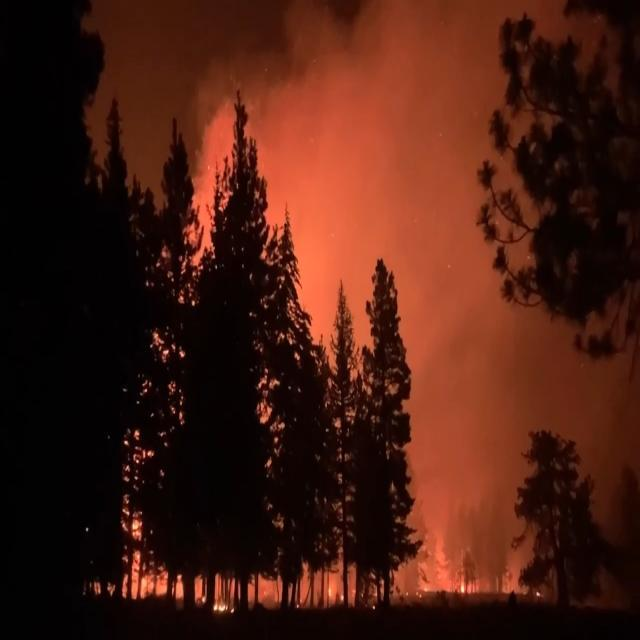Fire: (408, 521, 536, 596)
